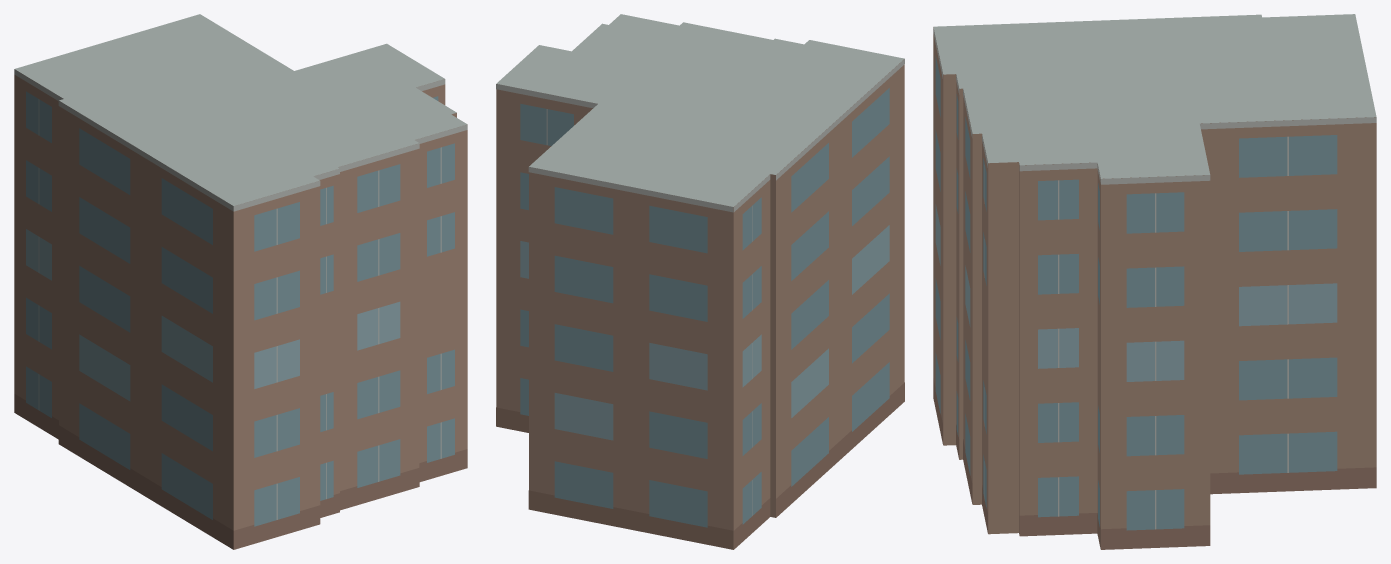
The model's file is survey-upis-32628339.glb.
3 views of the same model, side by side, from view 1: azimuth 30°, elevation 25°; view 2: azimuth 150°, elevation 25°; view 3: azimuth 270°, elevation 25° (orthographic). The views are drawn at different scales.
Visible parts, largest first — view 1: survey-upis-32628339.tmp; view 2: survey-upis-32628339.tmp; view 3: survey-upis-32628339.tmp.
Boxes of the visible parts, x1,y1,x2,y2 form: survey-upis-32628339.tmp: (14,14,467,549); survey-upis-32628339.tmp: (496,14,904,549); survey-upis-32628339.tmp: (933,14,1376,549).
Bounding box in the file's own units: 14.54 × 15.25 × 16.52.
